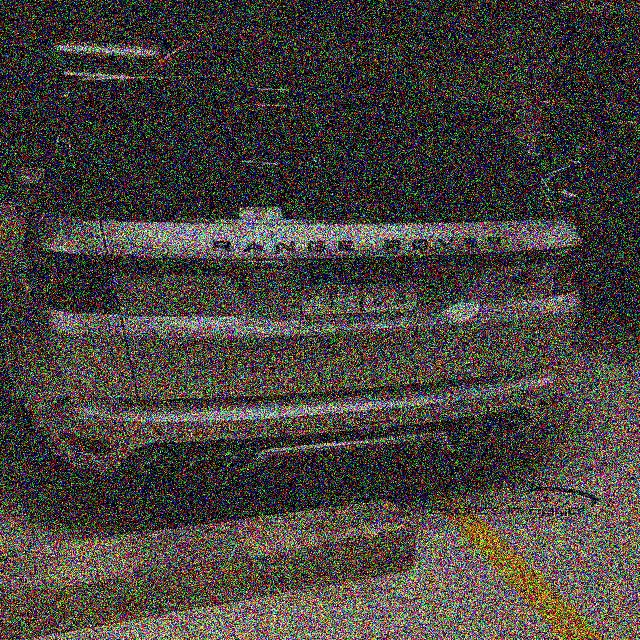License Plate: (297, 263, 423, 319)
